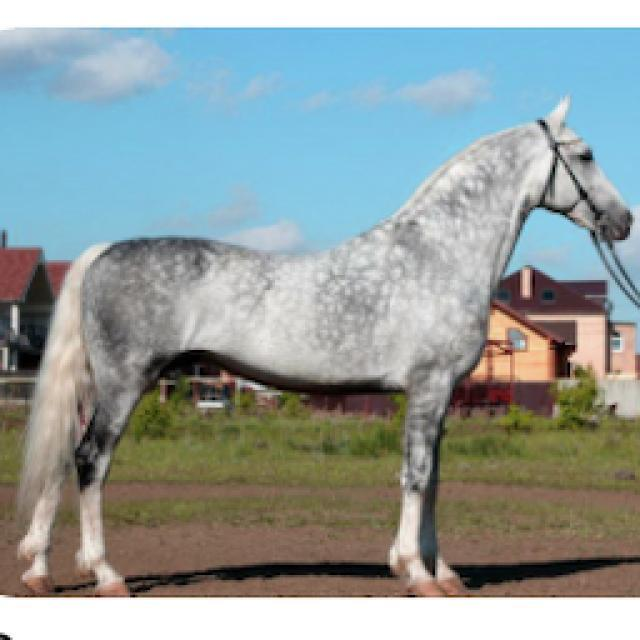Horse: (7, 90, 635, 595)
